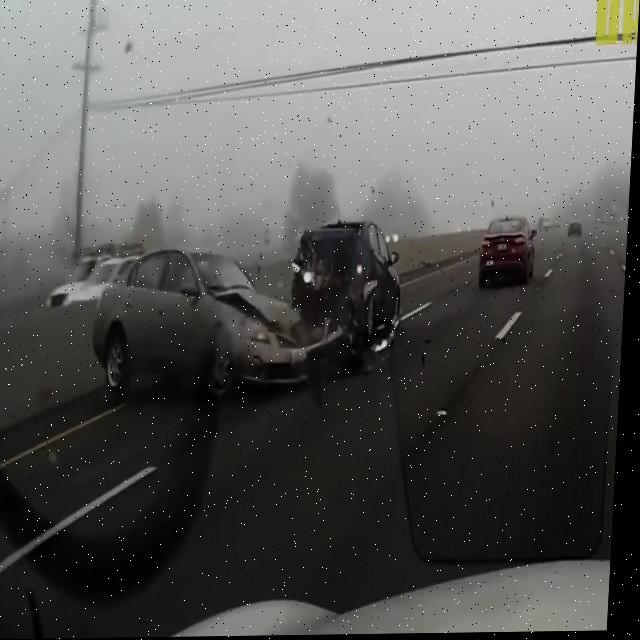multiple_accident: (60, 152, 576, 421)
